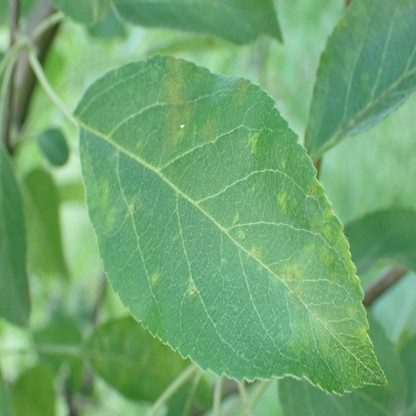scab: (311, 205, 357, 275), (80, 145, 117, 231), (163, 57, 192, 150), (289, 320, 336, 358), (232, 213, 262, 261), (271, 264, 306, 303), (201, 115, 215, 151), (233, 79, 249, 104), (275, 189, 287, 213), (248, 130, 259, 156), (308, 180, 323, 199), (319, 247, 332, 267), (355, 326, 368, 341), (304, 244, 315, 254), (188, 280, 195, 295), (150, 273, 159, 283), (332, 274, 340, 284)
